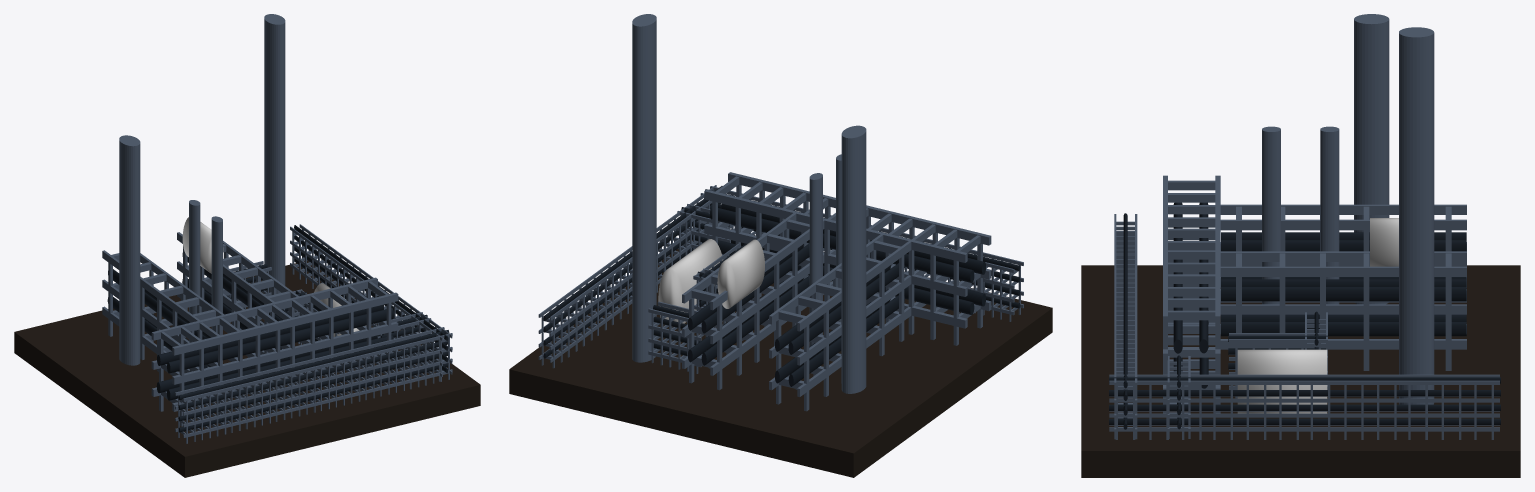
Rendered from Sales Gas & NGL Recovery_cube.fbx.
The picture shows the model from 3 angles, left to right: view 1: azimuth 30°, elevation 25°; view 2: azimuth 150°, elevation 25°; view 3: azimuth 270°, elevation 25°; orthographic projection. The views are drawn at different scales.
Parts seen in each view (by area): view 1: SalesGas&NGL_cube; view 2: SalesGas&NGL_cube; view 3: SalesGas&NGL_cube.
Boxes of the visible parts, x1,y1,x2,y2 form: SalesGas&NGL_cube: [14, 14, 480, 477]; SalesGas&NGL_cube: [509, 14, 1052, 477]; SalesGas&NGL_cube: [1081, 14, 1520, 477].
Size of the model in its own units: 100 by 100 by 100.
